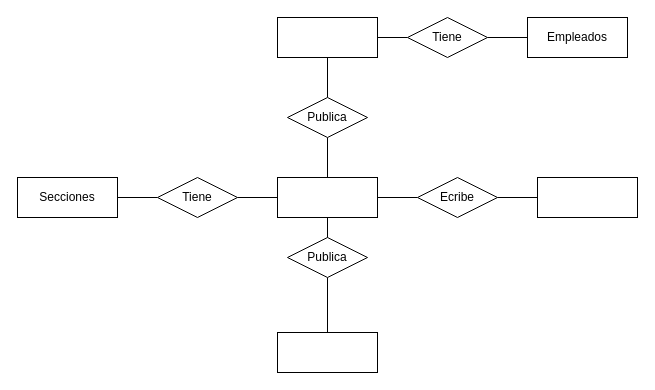
Image size: 655x390. Some labels were removed from this diagram. The centre of each missing label's shape, as x and y in pixels:
"Ejemplares" belongs at (x=327, y=352).
"Periodistas" belongs at (x=587, y=197).
"Revistas" belongs at (x=327, y=197).
"Sucursales" belongs at (x=327, y=37).
